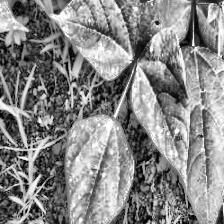Bean Rust: (134, 30, 192, 189), (65, 112, 134, 224), (46, 0, 132, 80), (0, 0, 26, 33)
